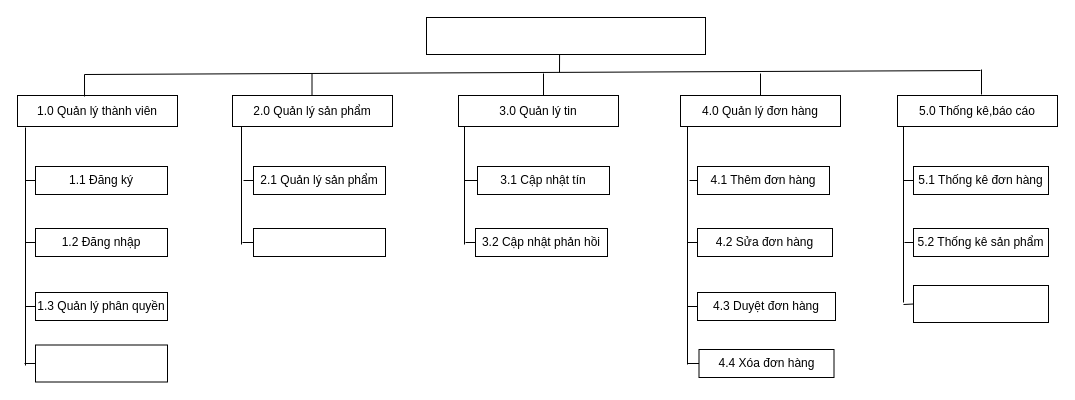
The diagram is 1075 pixels wide and 400 high, and some of its shapes have lost their labels. The shapes that lost their labels are listed below. From the top down, each one's centre as x and y in pixels, then its label:
At pixel 566 35: "Cửa hàng bán quần áo trực tuyến Adam Store".
At pixel 319 242: "2.2 Cập nhật phản hồi".
At pixel 980 303: "5.3 Tài khoản người dùng".
At pixel 101 363: "1.4 Quản lý thông tin thành viên".
